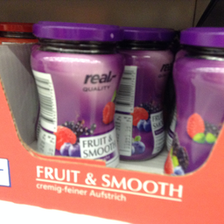jam: (31, 22, 119, 169), (164, 25, 224, 174), (119, 22, 173, 161)
